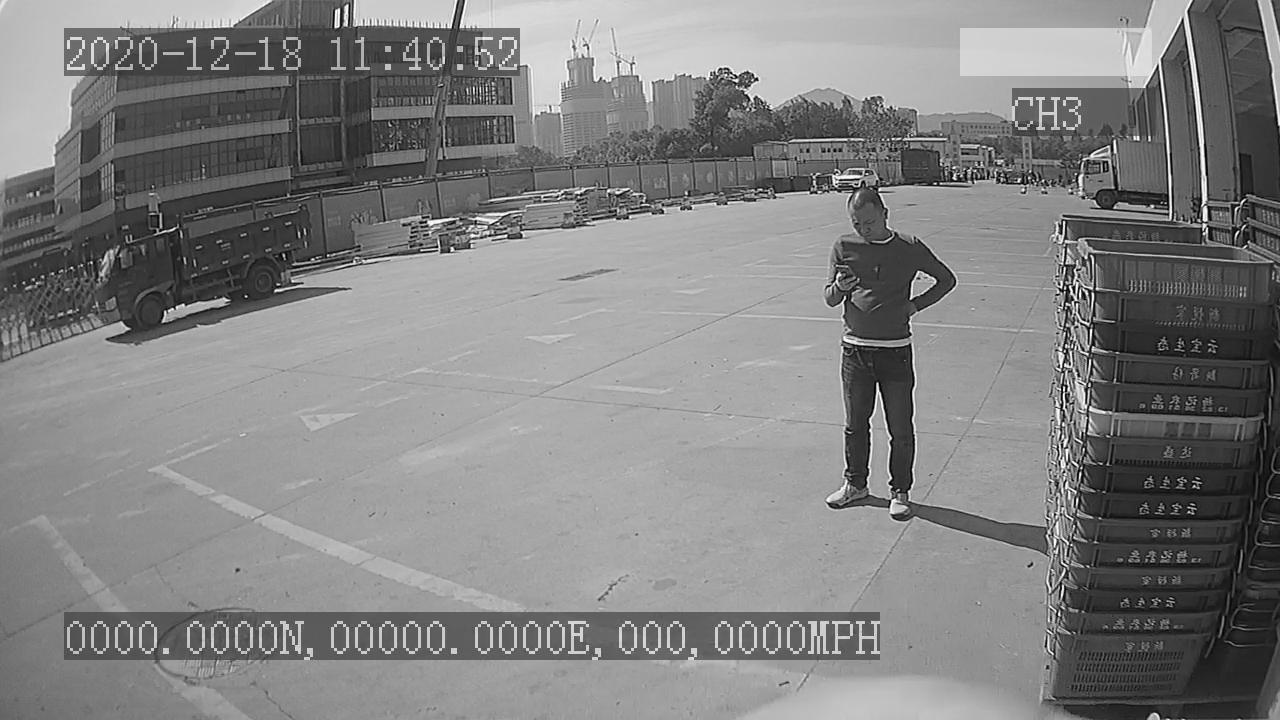person: (825, 190, 957, 519)
